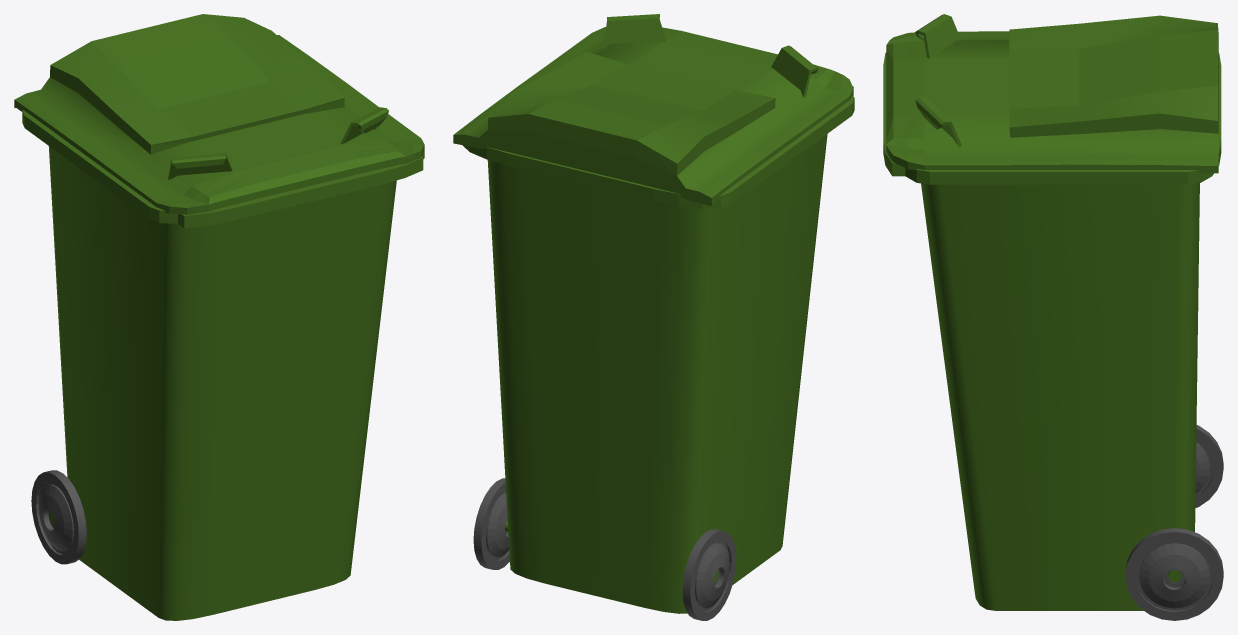
The model's file is trash_container_02.fbx.
The picture shows the model from 3 angles, left to right: view 1: azimuth 30°, elevation 25°; view 2: azimuth 150°, elevation 25°; view 3: azimuth 270°, elevation 25°; orthographic projection. The views are drawn at different scales.
Visible parts, largest first — view 1: trash_container_02; view 2: trash_container_02; view 3: trash_container_02.
Part boxes in pixels (left/top/right/bottom): trash_container_02: left=14, top=14, right=424, bottom=620; trash_container_02: left=453, top=14, right=854, bottom=620; trash_container_02: left=883, top=14, right=1223, bottom=620.
Size of the model in its own units: 76.11 by 131 by 79.5.
